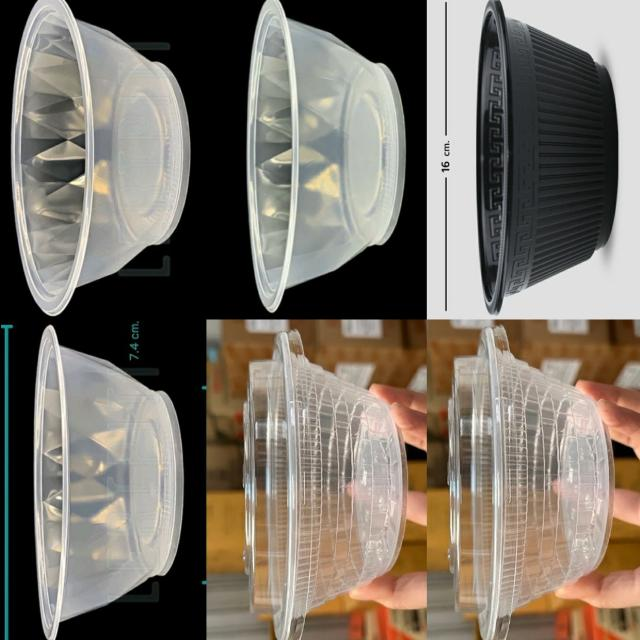plastik: (11, 0, 189, 315), (447, 327, 613, 640), (243, 331, 404, 640), (246, 0, 404, 311), (33, 326, 183, 640), (476, 0, 616, 314)
